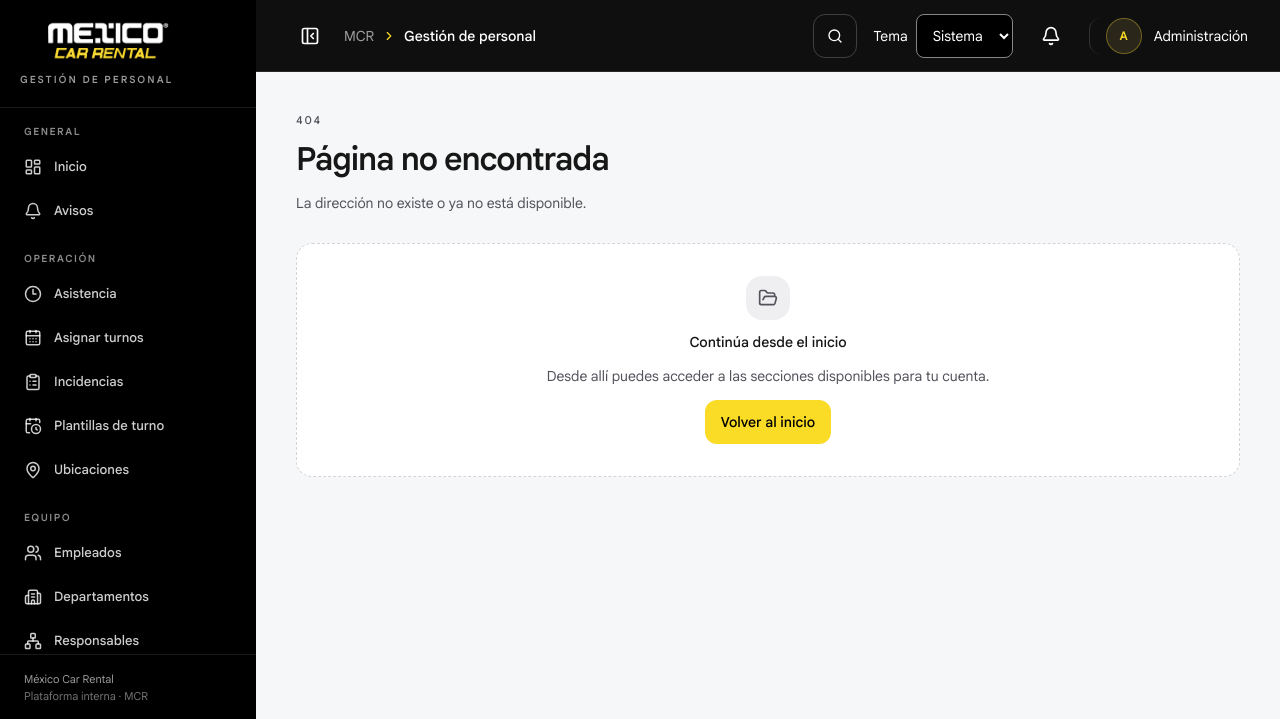
navegación de la aplicación › muestra 404 con regreso al inicio conservando navegación
Expected: the heading "Página no encontrada" is shown, 296,138 -> 609,178
Click the link "Volver al inicio".
click(768, 422)  # box 705,400 -> 831,444
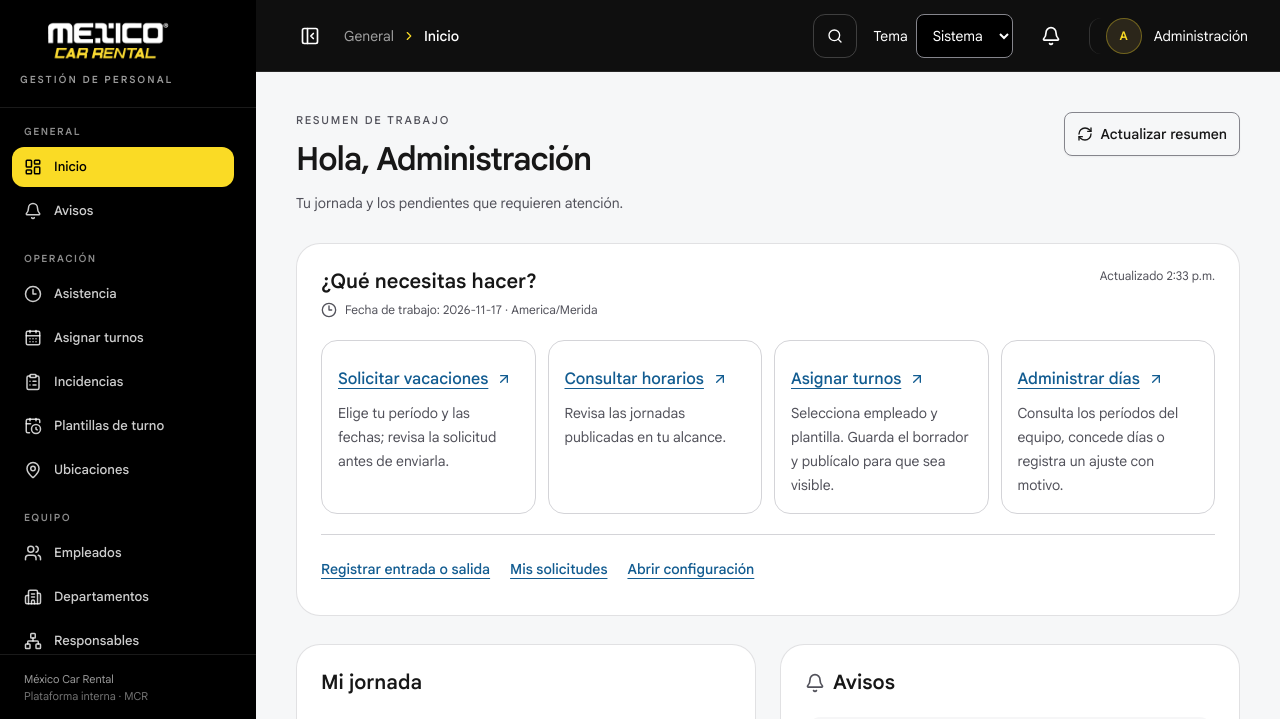
Expected: the heading "Hola, Administración" is shown, 296,138 -> 623,178
